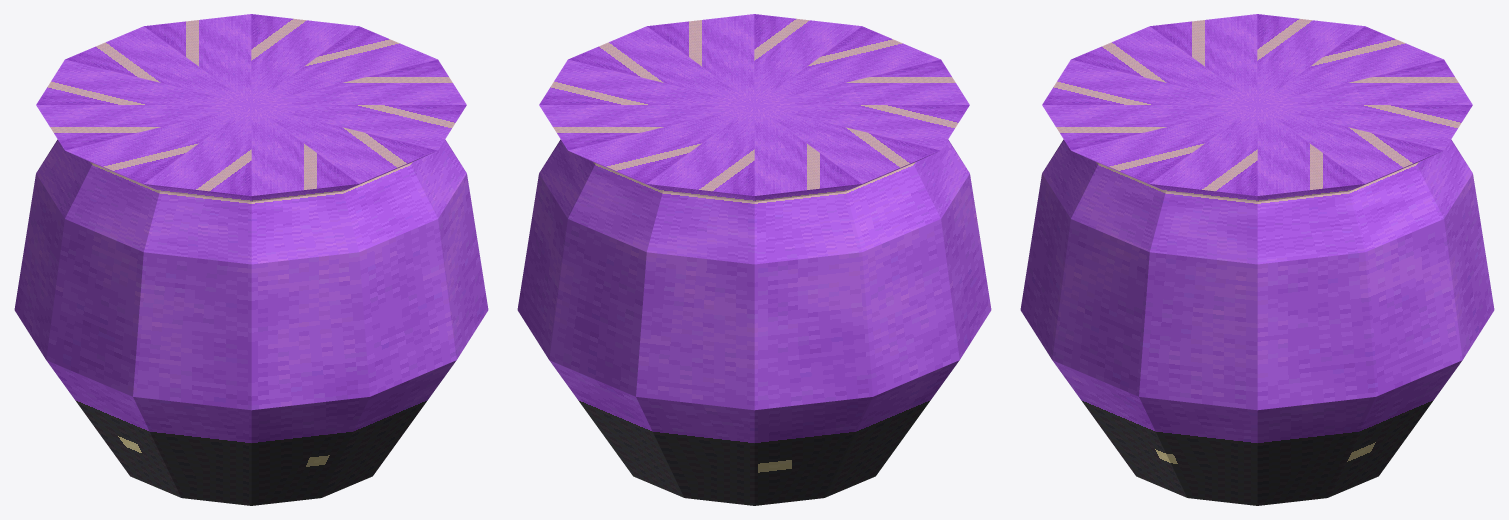
File: braseiro_roxo.glb
3 views of the same model, side by side, from view 1: azimuth 30°, elevation 25°; view 2: azimuth 150°, elevation 25°; view 3: azimuth 270°, elevation 25° (orthographic).
Visible parts, largest first — view 1: braseiro_roxo; view 2: braseiro_roxo; view 3: braseiro_roxo.
Part boxes in pixels (x1,y1,x2,y2): braseiro_roxo: (14, 14, 488, 505); braseiro_roxo: (517, 14, 991, 505); braseiro_roxo: (1020, 14, 1494, 505).
Bounding box in the file's own units: 0.88 × 0.7 × 0.88.
1 material, 1 textured.
